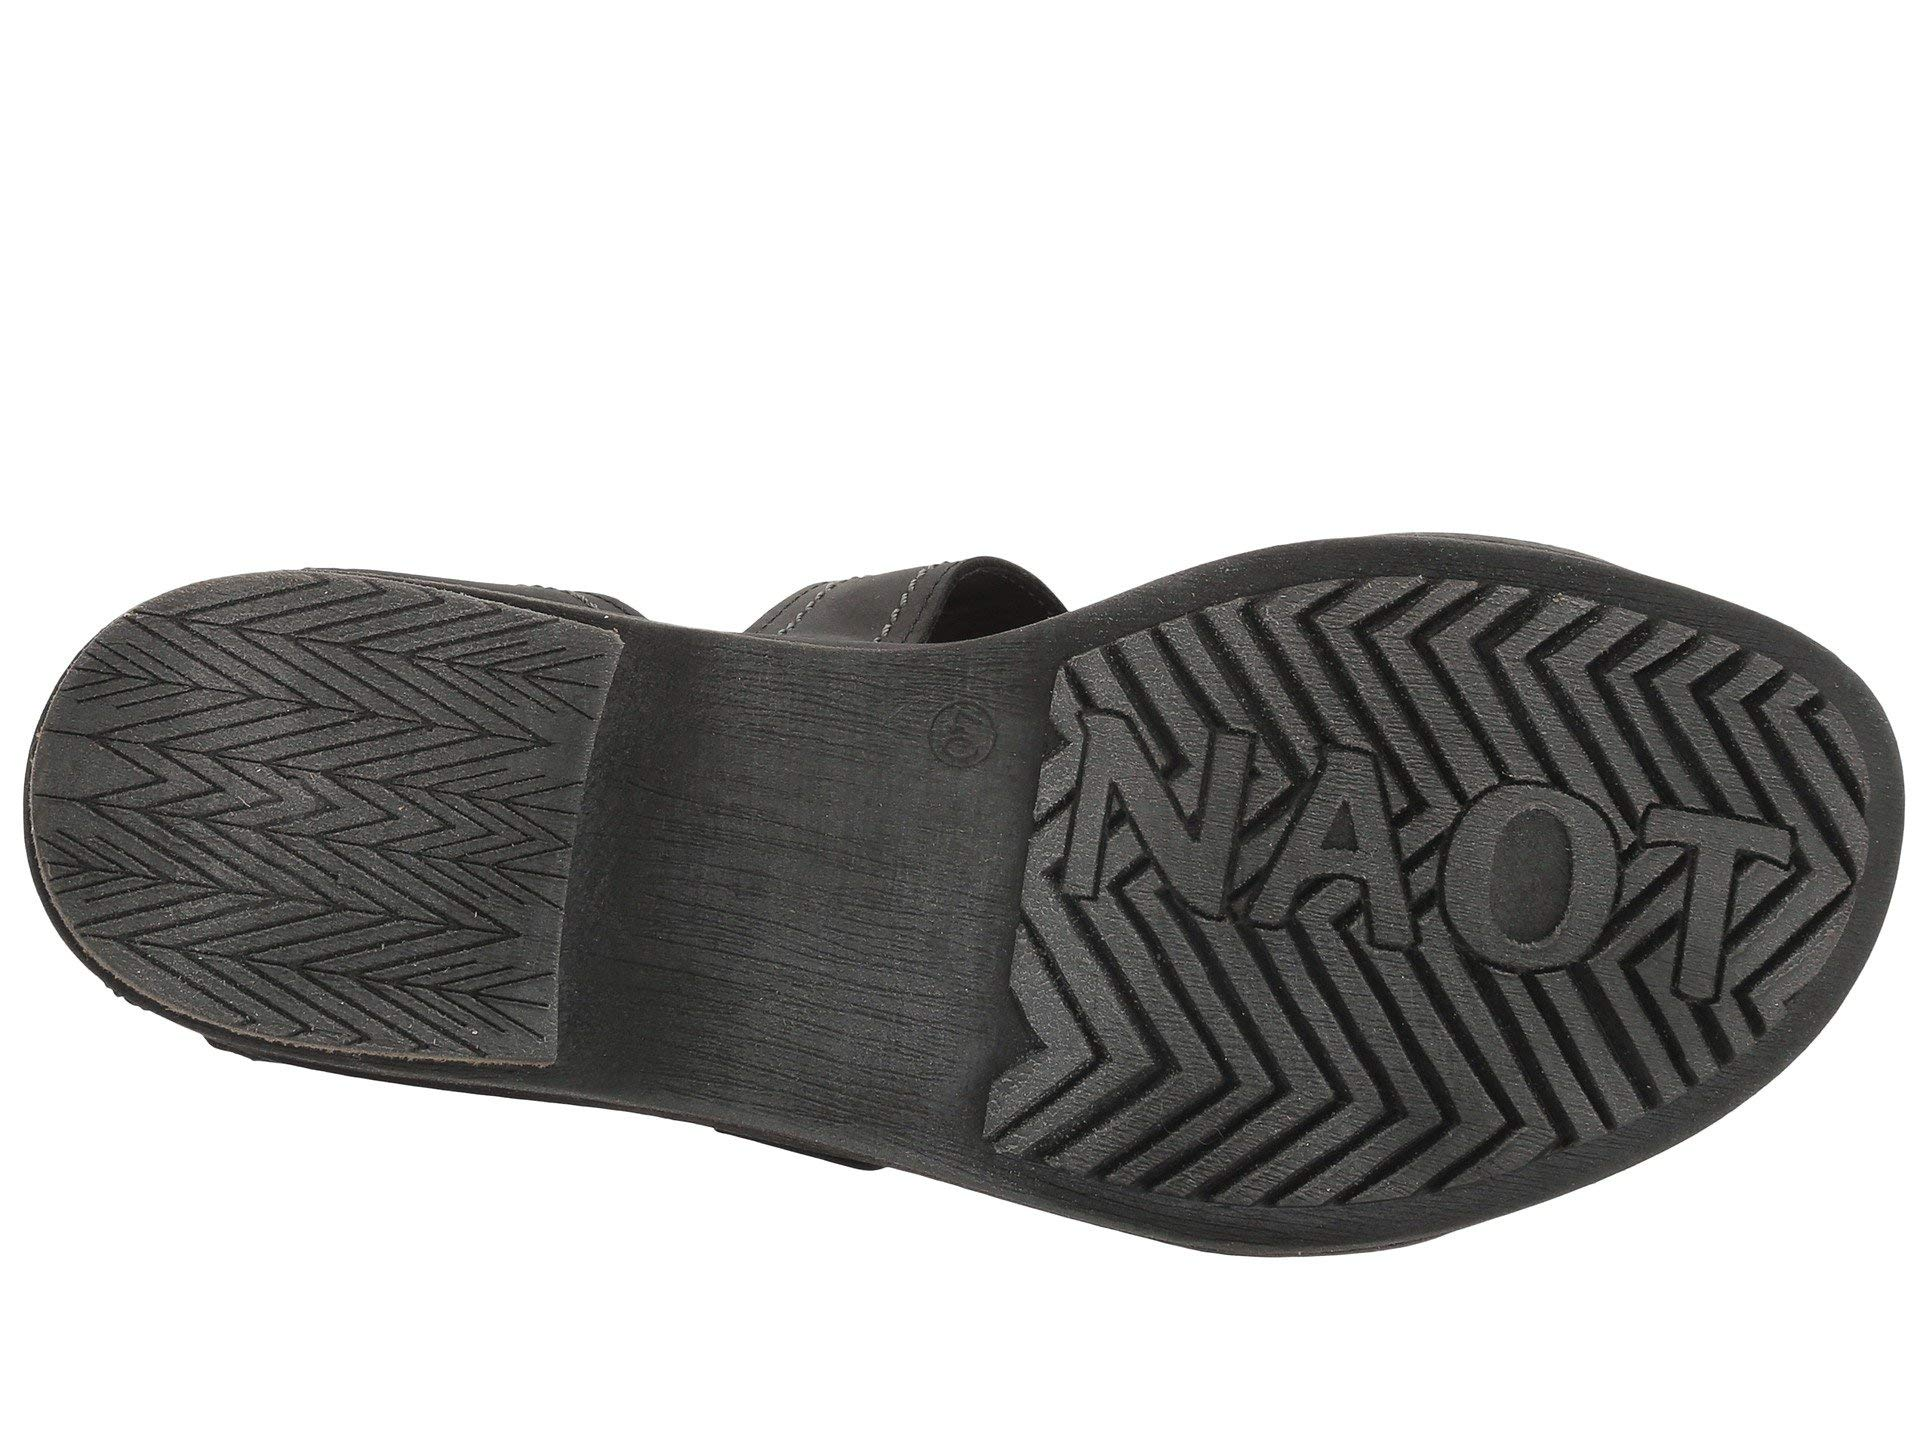chevron: (1063, 676, 1813, 1021), (144, 587, 509, 1019), (1120, 1051, 1534, 1174)
circle: (1063, 676, 1813, 1021), (915, 678, 1014, 793)
exclude: (742, 526, 1076, 631)
line: (1063, 676, 1813, 1021), (144, 587, 509, 1019)
quad: (144, 587, 509, 1019)
text: (1063, 676, 1813, 1021), (915, 678, 1014, 793)
triangle: (1063, 676, 1813, 1021)
